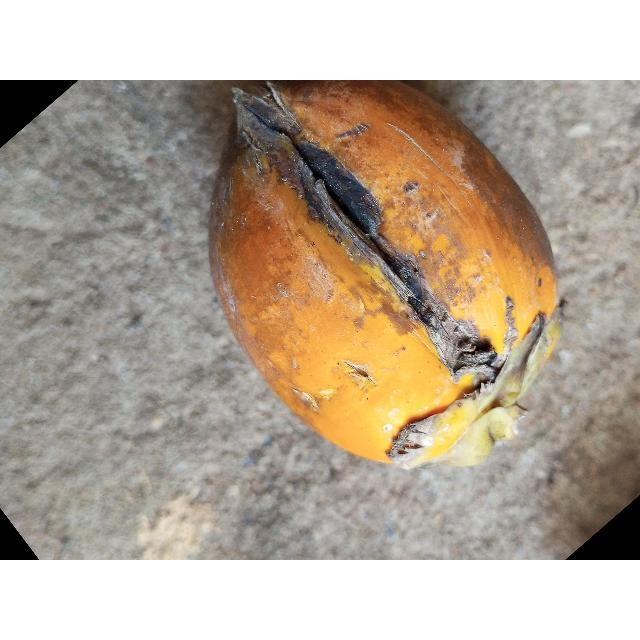damaged: (207, 80, 563, 470)
